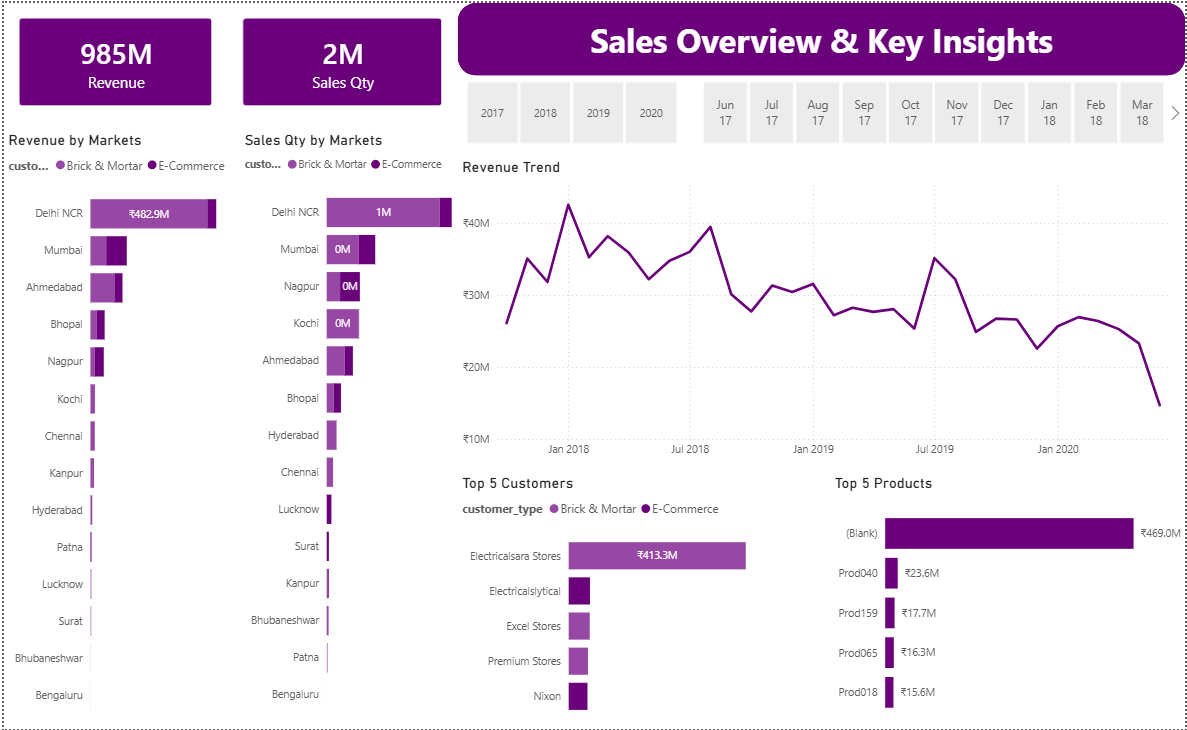

This screenshot's page, from the dashboard's own definition file:
{"tool":"powerbi","page":{"name":"Key Insights","canvas":[1350,830],"ordinal":0},"visuals":[{"type":"cardVisual","fields":{"Data":["BaseMeasures.Revenue","BaseMeasures.Revenue"]},"box":[0,0,255.7,135.7],"z":0},{"type":"cardVisual","fields":{"Data":["BaseMeasures.Sales Qty"]},"box":[255.7,0,262.9,135.7],"z":1000},{"type":"barChart","title":"Revenue by Markets","fields":{"Y":["BaseMeasures.Revenue"],"Category":["sales markets.markets_name"],"Series":["sales customers.customer_type"]},"box":[0,145.7,270,684.3],"z":2000},{"type":"barChart","title":"Sales Qty by Markets","fields":{"Y":["BaseMeasures.Sales Qty"],"Category":["sales markets.markets_name"],"Series":["sales customers.customer_type"]},"box":[270,145.7,248.6,684.3],"z":3000},{"type":"slicer","fields":{"Values":["sales date.year"]},"box":[502.9,82.9,290,84.3],"z":4000},{"type":"slicer","fields":{"Values":["sales date.cy_date"]},"box":[772.9,82.9,577.1,84.3],"z":5000},{"type":"barChart","title":"Top 5 Customers","fields":{"Y":["BaseMeasures.Revenue"],"Category":["sales customers.custmer_name"],"Series":["sales customers.customer_type"]},"box":[518.6,538.6,425.7,291.4],"z":6000},{"type":"barChart","title":"Top 5 Products","fields":{"Y":["BaseMeasures.Revenue"],"Category":["sales products.product_code"]},"box":[944.3,538.6,405.7,291.4],"z":7000},{"type":"lineChart","title":"Revenue Trend","fields":{"Y":["BaseMeasures.Revenue"],"Category":["sales date.cy_date.Variation.Date Hierarchy.Year"]},"box":[518.6,177.1,831.4,351.4],"z":8000},{"type":"shape","box":[518.6,0,831.4,82.9],"z":9000}]}

Visuals, with their boxes in screenshot pixels (x1, y1, x2, y2), scaled from the page's 1350x830 canvas onto the 1187x730 screenshot:
cardVisual - BaseMeasures.Revenue x BaseMeasures.Revenue: Rect(0, 0, 225, 119)
cardVisual - BaseMeasures.Sales Qty: Rect(225, 0, 456, 119)
"Revenue by Markets" barChart: Rect(0, 128, 237, 729)
"Sales Qty by Markets" barChart: Rect(237, 128, 456, 729)
slicer - sales date.year: Rect(442, 73, 697, 147)
slicer - sales date.cy_date: Rect(680, 73, 1186, 147)
"Top 5 Customers" barChart: Rect(456, 474, 830, 729)
"Top 5 Products" barChart: Rect(830, 474, 1186, 729)
"Revenue Trend" lineChart: Rect(456, 156, 1186, 465)
shape: Rect(456, 0, 1186, 73)
